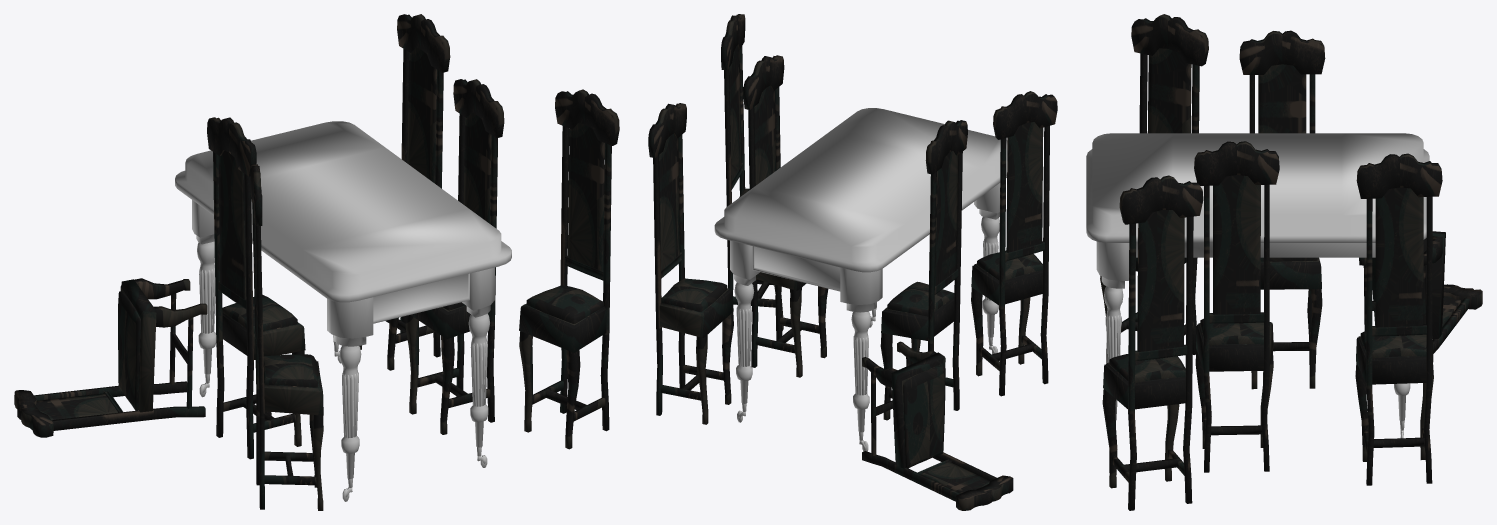
The model's file is table.gltf.
The picture shows the model from 3 angles, left to right: view 1: azimuth 30°, elevation 25°; view 2: azimuth 150°, elevation 25°; view 3: azimuth 270°, elevation 25°; orthographic projection. The views are drawn at different scales.
Parts seen in each view (by area): view 1: Material-material, Test-material; view 2: Material-material, Test-material; view 3: Material-material, Test-material.
Part boxes in pixels (left/top/right/bottom): Material-material: left=14, top=14, right=619, bottom=510; Test-material: left=175, top=121, right=511, bottom=501; Material-material: left=648, top=14, right=1057, bottom=510; Test-material: left=714, top=108, right=1007, bottom=451; Material-material: left=1100, top=14, right=1482, bottom=510; Test-material: left=1086, top=133, right=1429, bottom=438.
Bounding box in the file's own units: 43.17 × 30.58 × 33.17.
